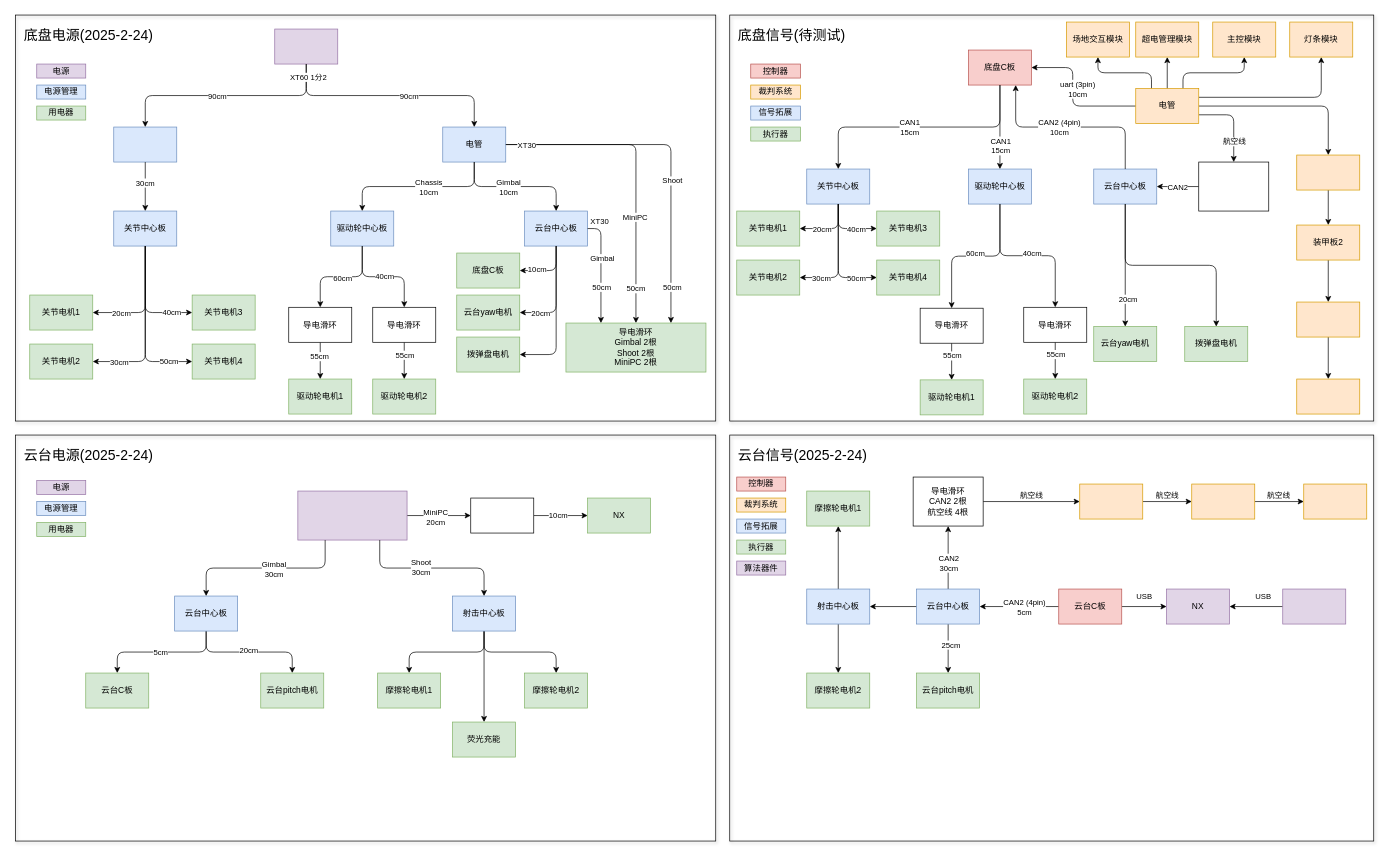
This 1390x858 diagram has some shape labels left out. Each missing label, with the centre of its shape:
uwb: the point at 1335,501
变压器: the point at 502,515
图传: the point at 1111,501
导电滑环 CAN2 2根 航空线 4根: the point at 1233,186
导电滑环 Gimbal 2根 Shoot 2根 MiniPC 2根: the point at 352,515
工业相机: the point at 1314,606
测速模块: the point at 1223,501
电池: the point at 306,46
继电器: the point at 145,144
装甲板1: the point at 1328,172
装甲板3: the point at 1328,319
装甲板4: the point at 1328,396
